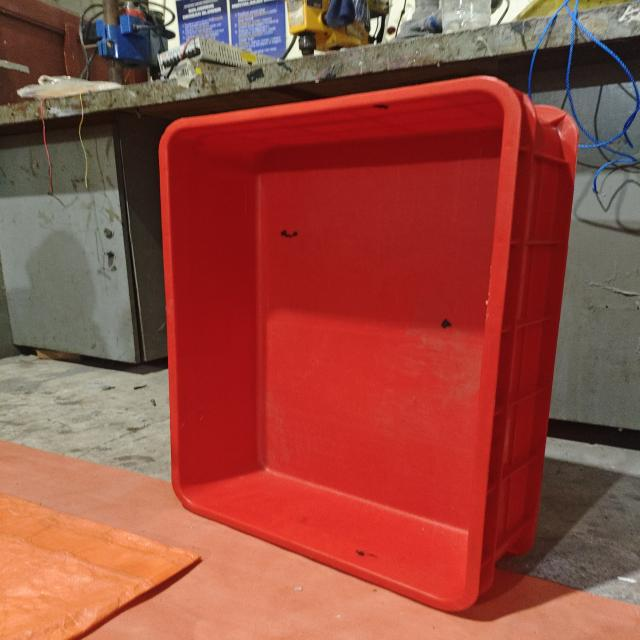red plastic box: (158, 75, 579, 612)
